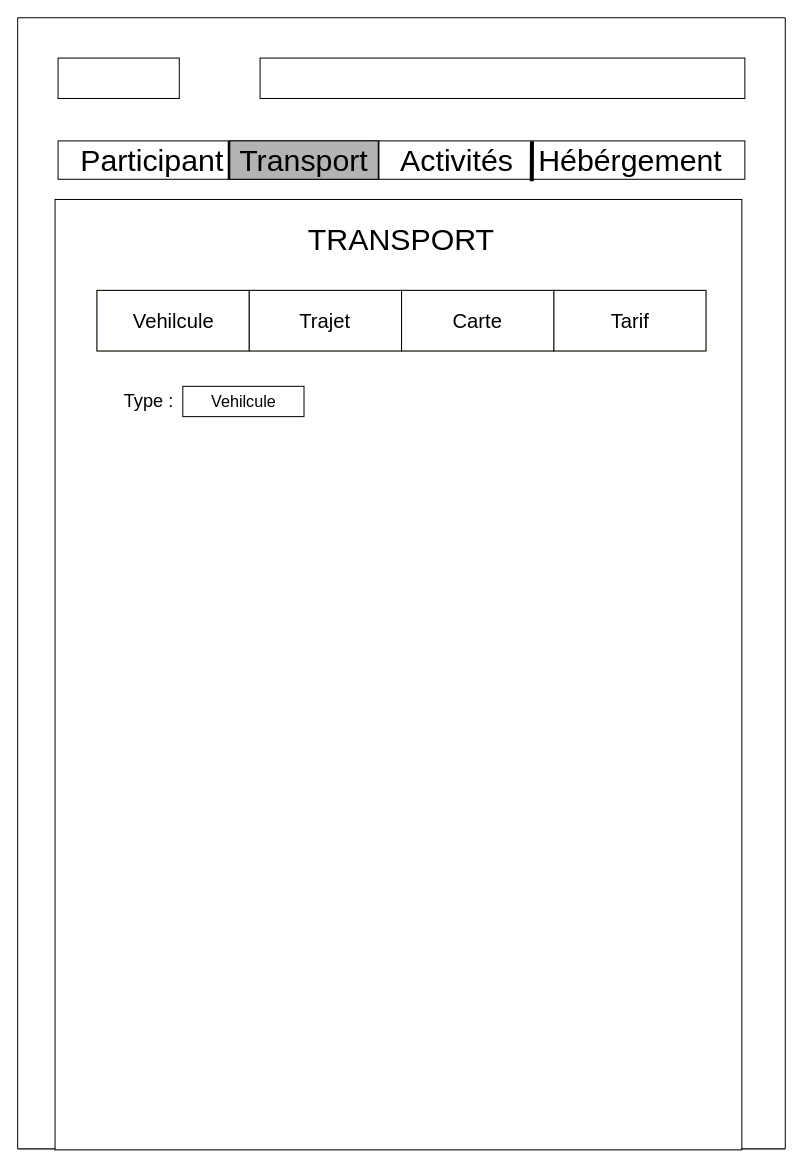
This 804x1168 diagram has some shape labels left out. Each missing label, with the centre of its shape:
"FR: DE: IT:" goes at point (502, 77).
"LOGO" goes at point (118, 77).
